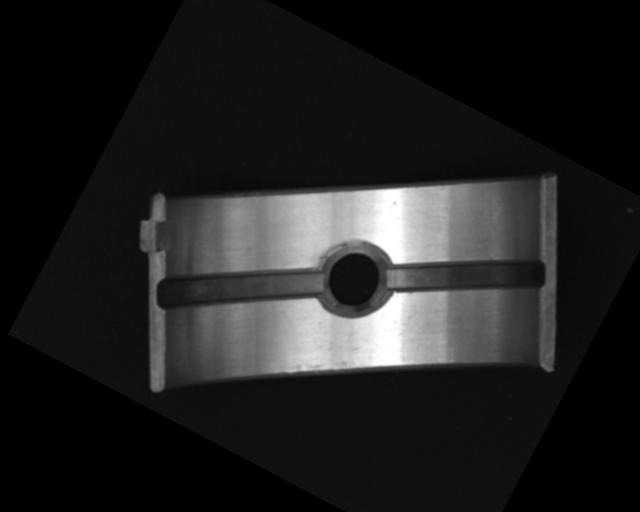gap: (148, 208, 327, 372), (380, 199, 550, 349)
hole: (312, 229, 400, 323)
